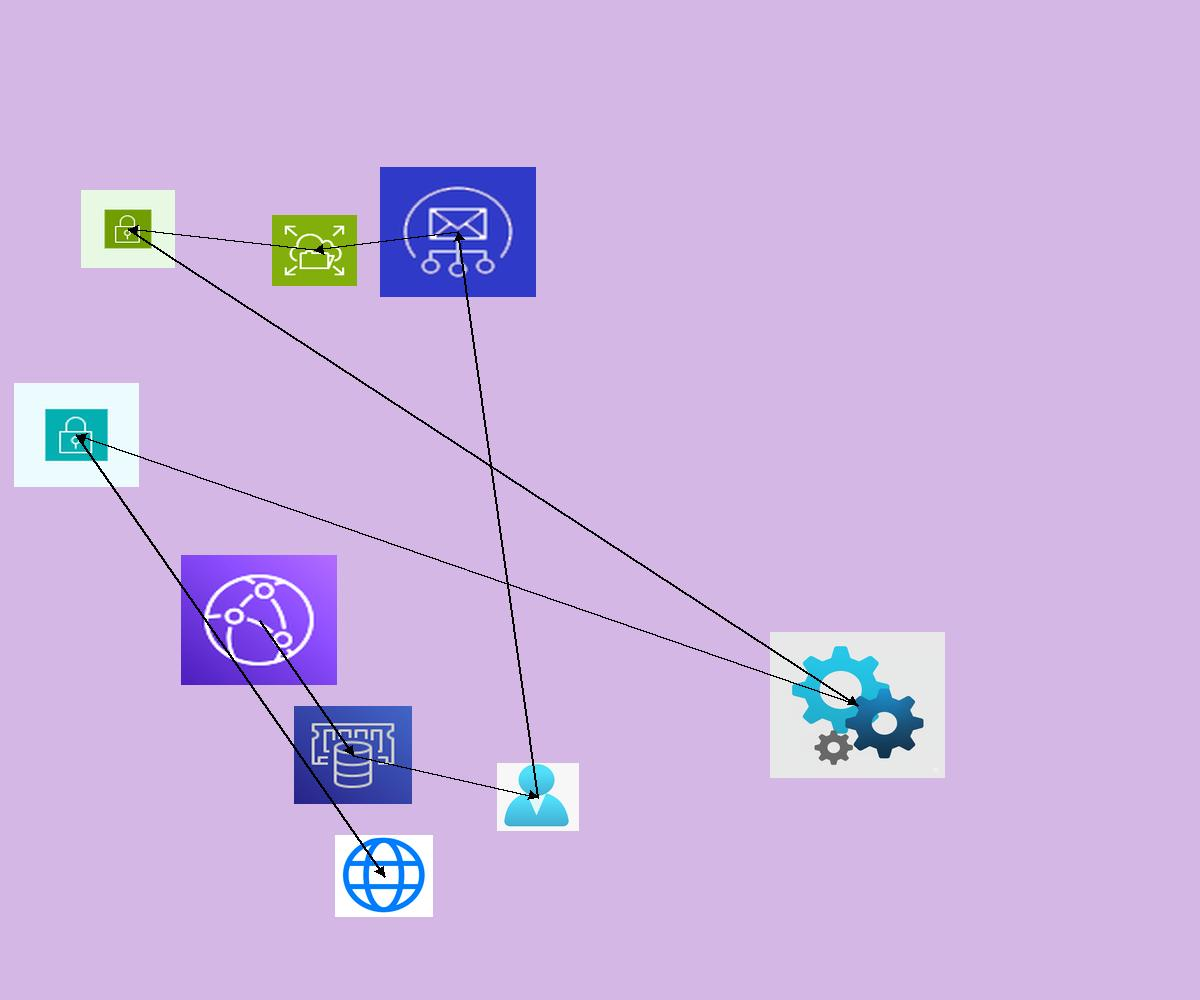AWS-CloudFront: (181, 555, 337, 685)
AWS-EFS: (272, 215, 357, 286)
AWS-ElastiCache: (294, 706, 412, 804)
AWS-Private-subnet: (14, 383, 139, 487)
AWS-Public-subnet: (81, 190, 175, 268)
AWS-Simple-Email-Service: (380, 167, 536, 297)
Azure_api: (770, 632, 945, 778)
Azure_http: (335, 835, 433, 917)
Azure_users: (497, 763, 579, 831)
